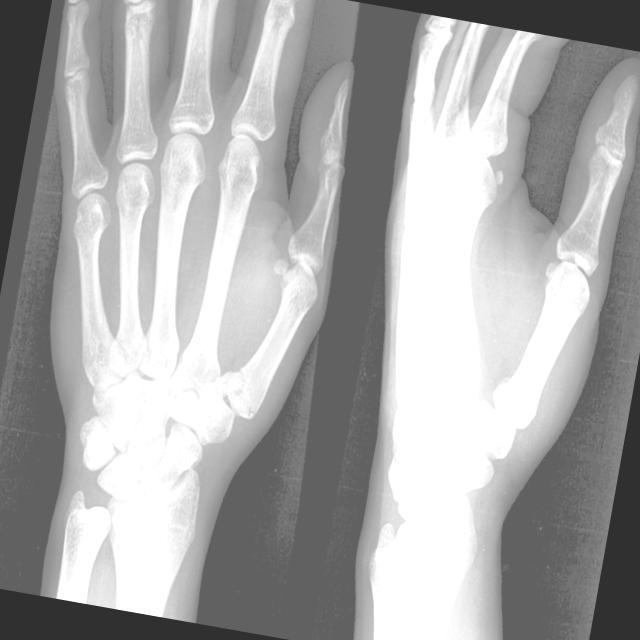Intra-articular fracture: (215, 362, 250, 415)
